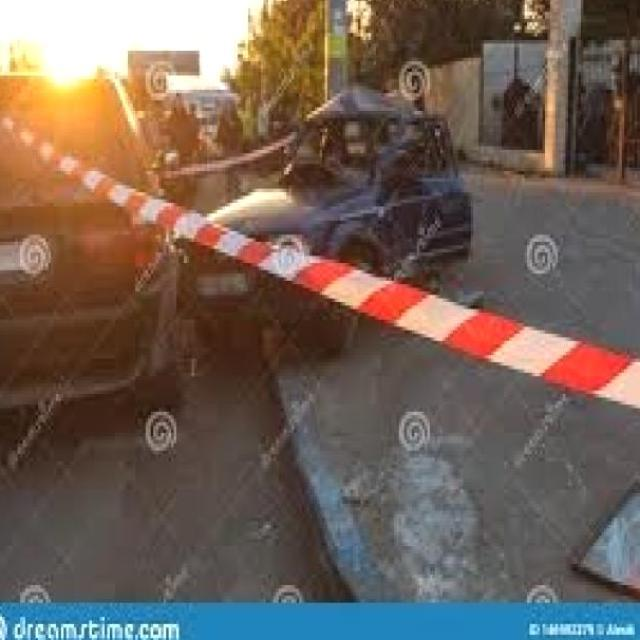accident: (182, 71, 500, 350)
